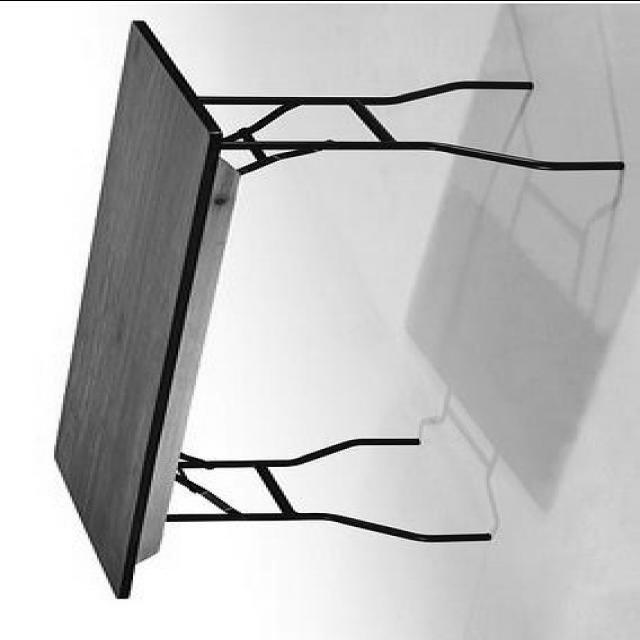table: (52, 19, 620, 602)
